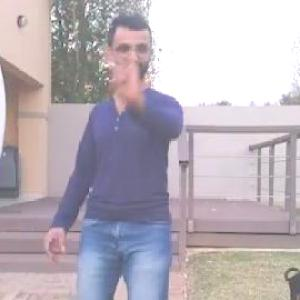takeoff-hand: (111, 49, 153, 98)
